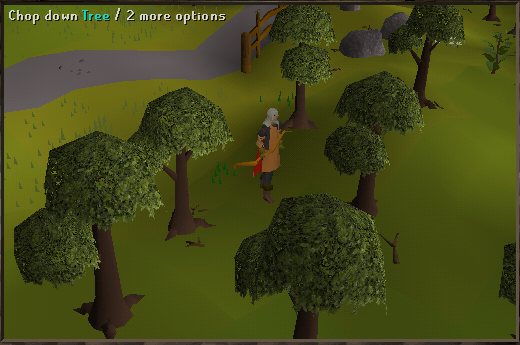Tree: (43, 148, 143, 320), (260, 222, 364, 340), (338, 76, 404, 212), (157, 96, 206, 234), (275, 0, 326, 129), (402, 0, 456, 114)
